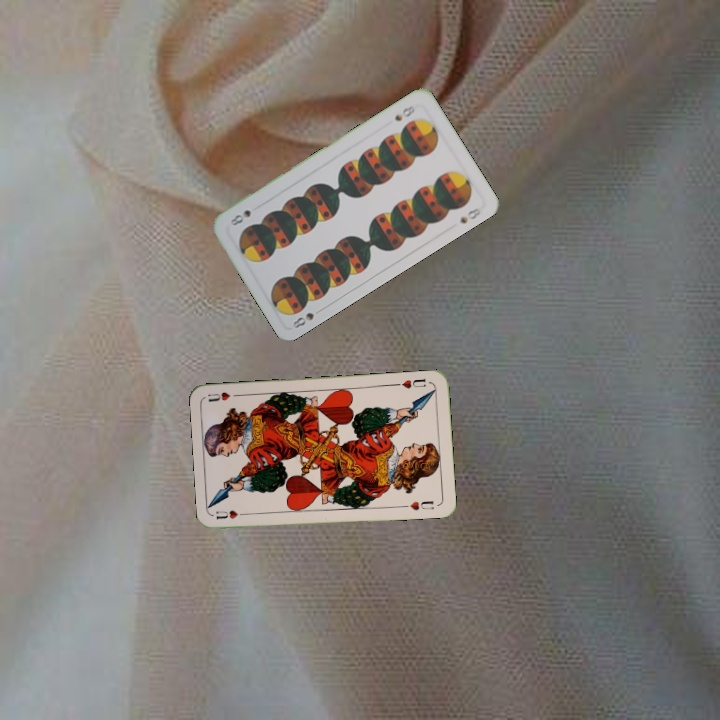HU: (212, 506, 252, 522), (392, 375, 428, 391)
S8: (288, 304, 326, 331), (391, 101, 418, 124)
